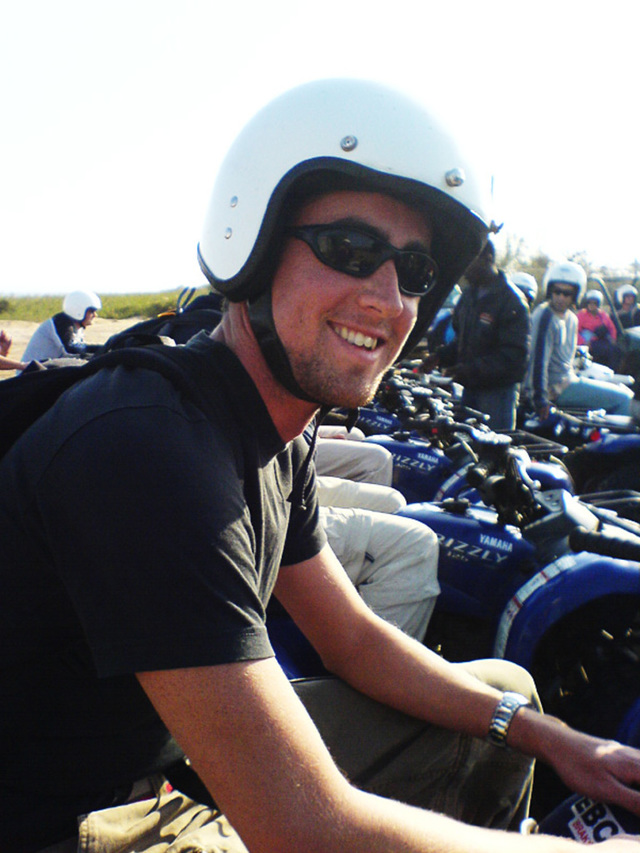helmet: (183, 81, 496, 267)
